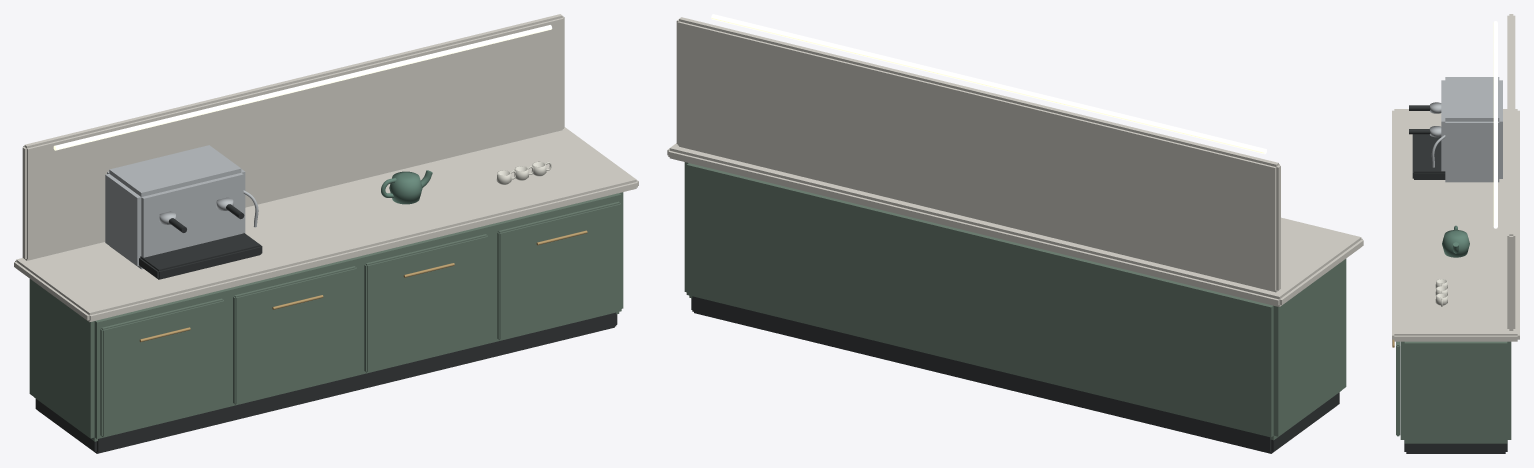
The model's file is kitchen_demo.glb.
3 views of the same model, side by side, from view 1: azimuth 30°, elevation 25°; view 2: azimuth 150°, elevation 25°; view 3: azimuth 270°, elevation 25° (orthographic). The views are drawn at different scales.
Parts seen in each view (by area): view 1: kitchen_demo_Honed_solid_surface, kitchen_demo_ALVENE_woven_sage, kitchen_demo_Brushed_stainless.007, kitchen_demo_Anodised_graphite, kitchen_demo_Anodised_graphite.017, kitchen_demo_Warm_LED_diffuser, kitchen_demo_Glazed_ceramic_1.001, kitchen_demo_Satin_champagne; view 2: kitchen_demo_Honed_solid_surface, kitchen_demo_ALVENE_woven_sage, kitchen_demo_Anodised_graphite, kitchen_demo_Warm_LED_diffuser; view 3: kitchen_demo_Honed_solid_surface, kitchen_demo_ALVENE_woven_sage, kitchen_demo_Brushed_stainless.007, kitchen_demo_Anodised_graphite.017, kitchen_demo_Anodised_graphite, kitchen_demo_Warm_LED_diffuser, kitchen_demo_Glazed_ceramic_1.001.
Boxes of the visible parts, x1=… form: kitchen_demo_Honed_solid_surface: x1=14, y1=14, x2=638, y2=322; kitchen_demo_ALVENE_woven_sage: x1=29, y1=192, x2=623, y2=441; kitchen_demo_Brushed_stainless.007: x1=105, y1=145, x2=258, y2=269; kitchen_demo_Anodised_graphite: x1=35, y1=312, x2=617, y2=453; kitchen_demo_Anodised_graphite.017: x1=139, y1=204, x2=262, y2=279; kitchen_demo_Warm_LED_diffuser: x1=53, y1=25, x2=552, y2=150; kitchen_demo_Glazed_ceramic_1.001: x1=381, y1=170, x2=432, y2=204; kitchen_demo_Satin_champagne: x1=139, y1=230, x2=587, y2=342; kitchen_demo_Honed_solid_surface: x1=667, y1=17, x2=1363, y2=306; kitchen_demo_ALVENE_woven_sage: x1=684, y1=162, x2=1346, y2=440; kitchen_demo_Anodised_graphite: x1=691, y1=296, x2=1339, y2=453; kitchen_demo_Warm_LED_diffuser: x1=711, y1=14, x2=1266, y2=154; kitchen_demo_Honed_solid_surface: x1=1392, y1=14, x2=1519, y2=341; kitchen_demo_ALVENE_woven_sage: x1=1396, y1=341, x2=1511, y2=443; kitchen_demo_Brushed_stainless.007: x1=1429, y1=77, x2=1502, y2=182; kitchen_demo_Anodised_graphite.017: x1=1409, y1=105, x2=1445, y2=179; kitchen_demo_Anodised_graphite: x1=1404, y1=440, x2=1507, y2=453; kitchen_demo_Warm_LED_diffuser: x1=1493, y1=21, x2=1497, y2=228; kitchen_demo_Glazed_ceramic_1.001: x1=1442, y1=225, x2=1469, y2=257.
Size of the model in its own units: 3.78 by 1.74 by 0.9.
